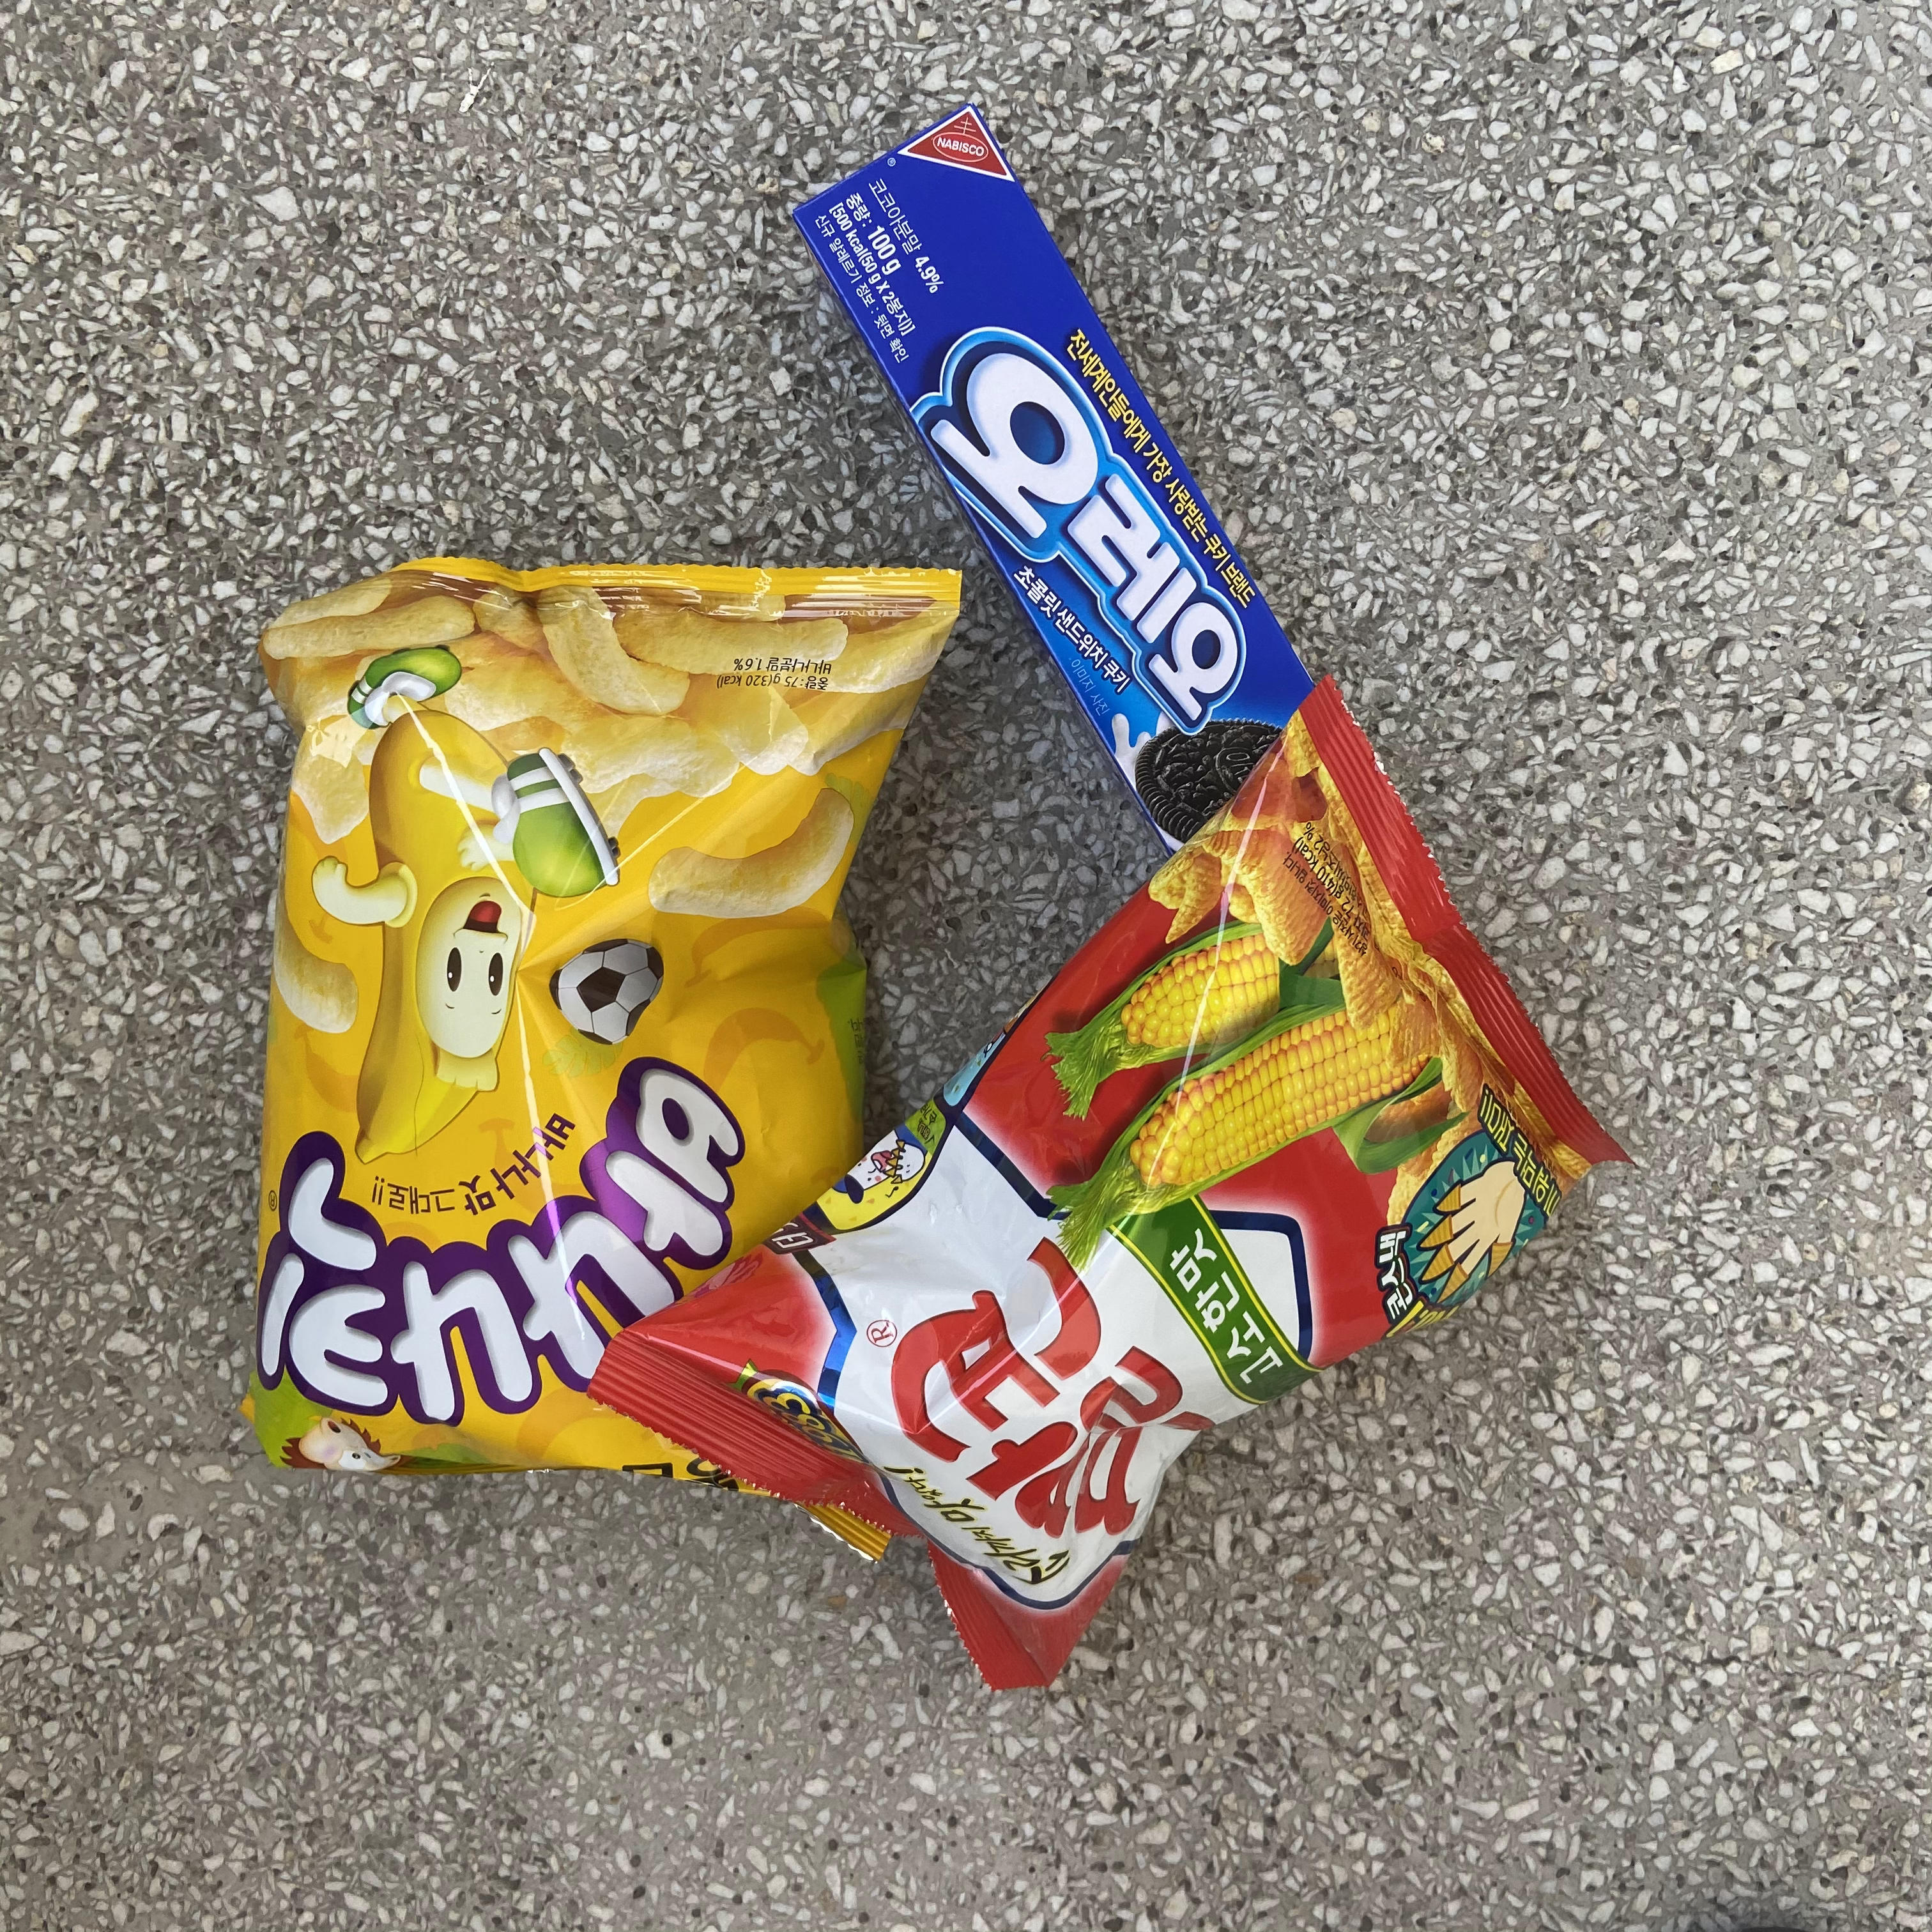banana: (230, 541, 984, 1612)
ggoggalcon: (548, 639, 1667, 1716)
oreo: (764, 74, 1415, 959)
